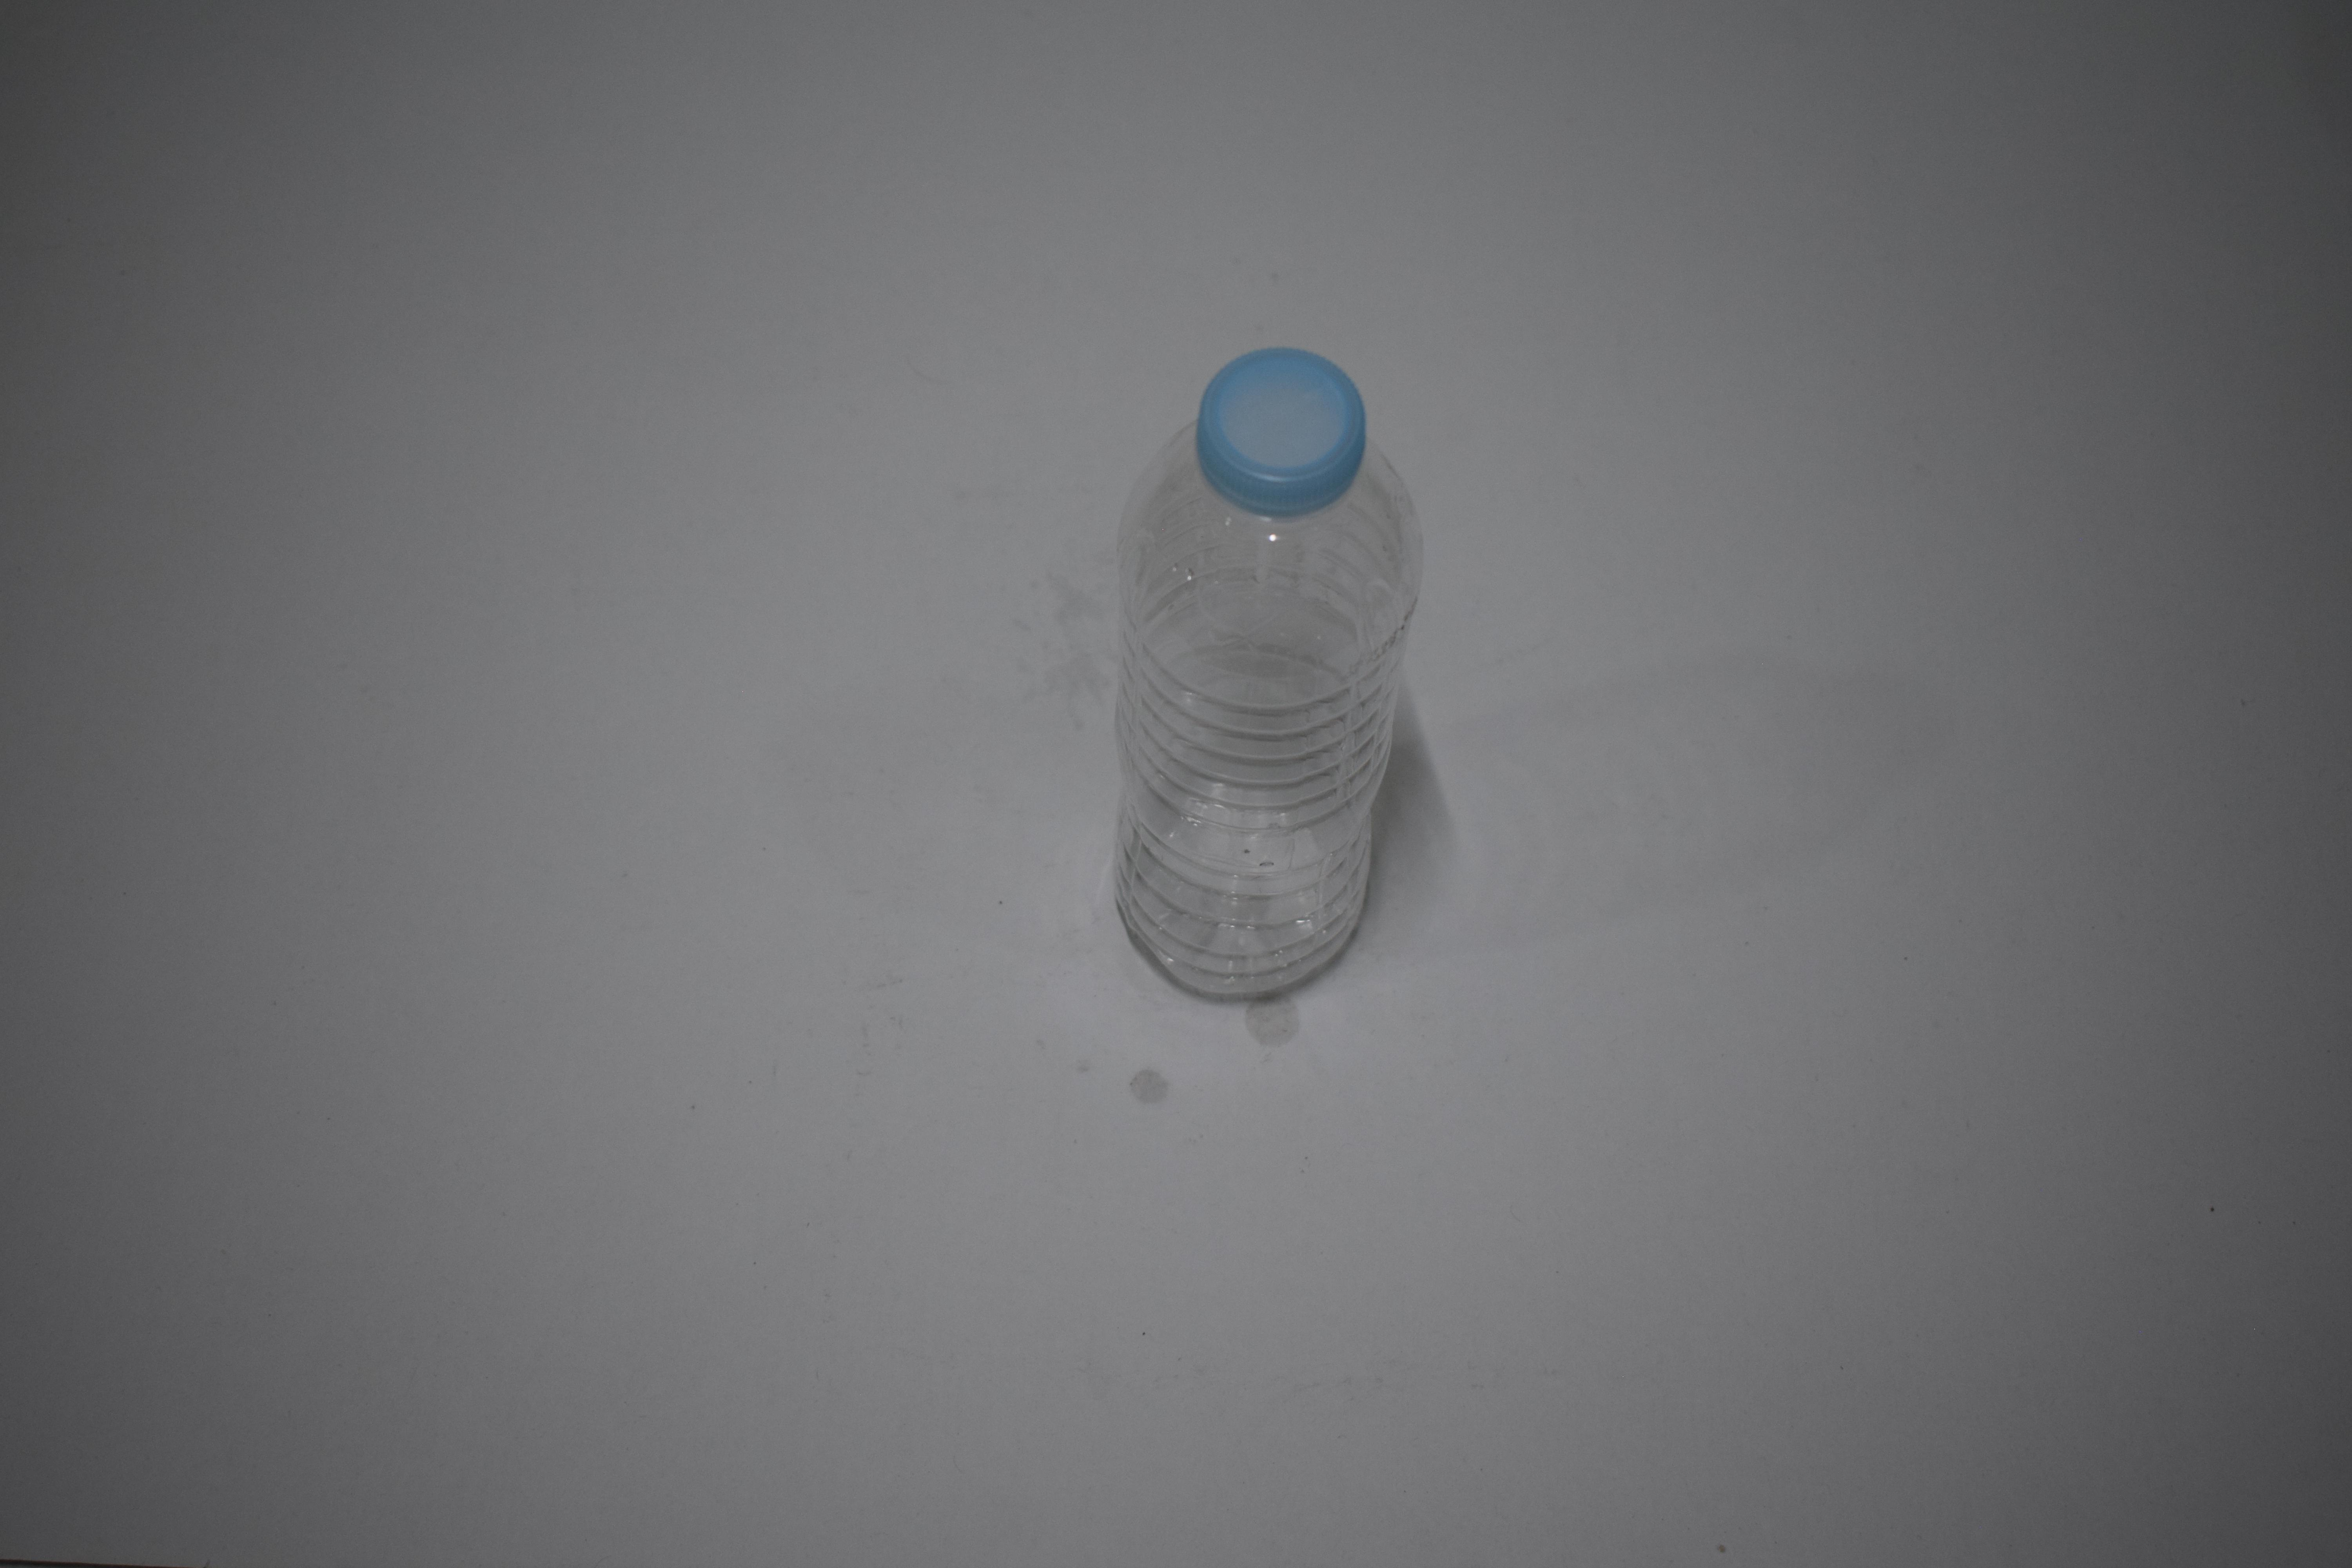bottle: (0, 338, 240, 1015)
